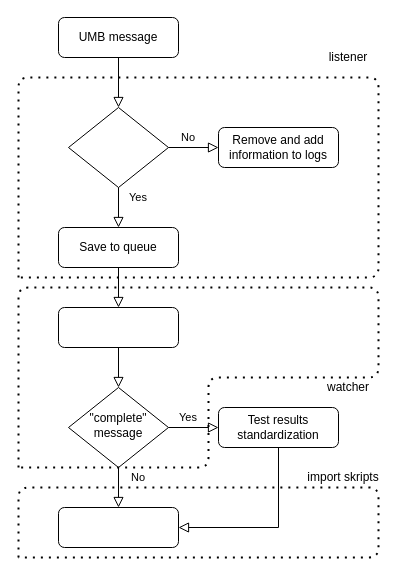
This 405x577 diagram has some shape labels left out. Each missing label, with the box of its shape:
Extracting and data import: (58, 506, 178, 548)
Select from queue: (58, 306, 178, 348)
Valid?: (68, 106, 168, 188)
